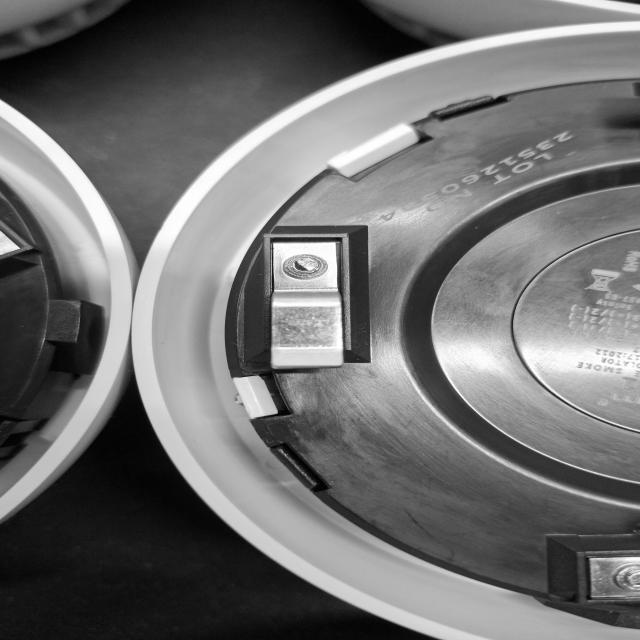yaysiz: (240, 228, 364, 398)
